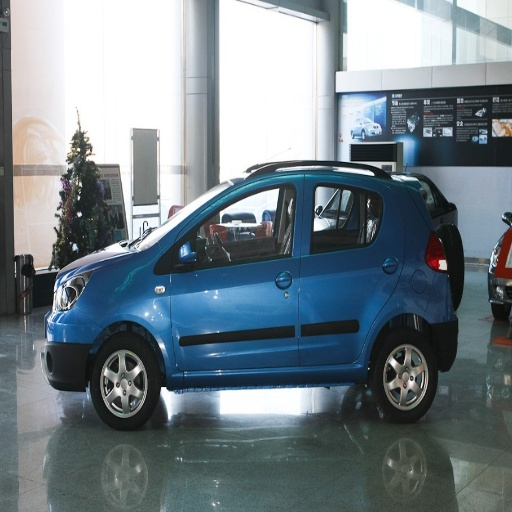back_left_door: (300, 168, 400, 366)
front_left_door: (169, 170, 306, 371)
